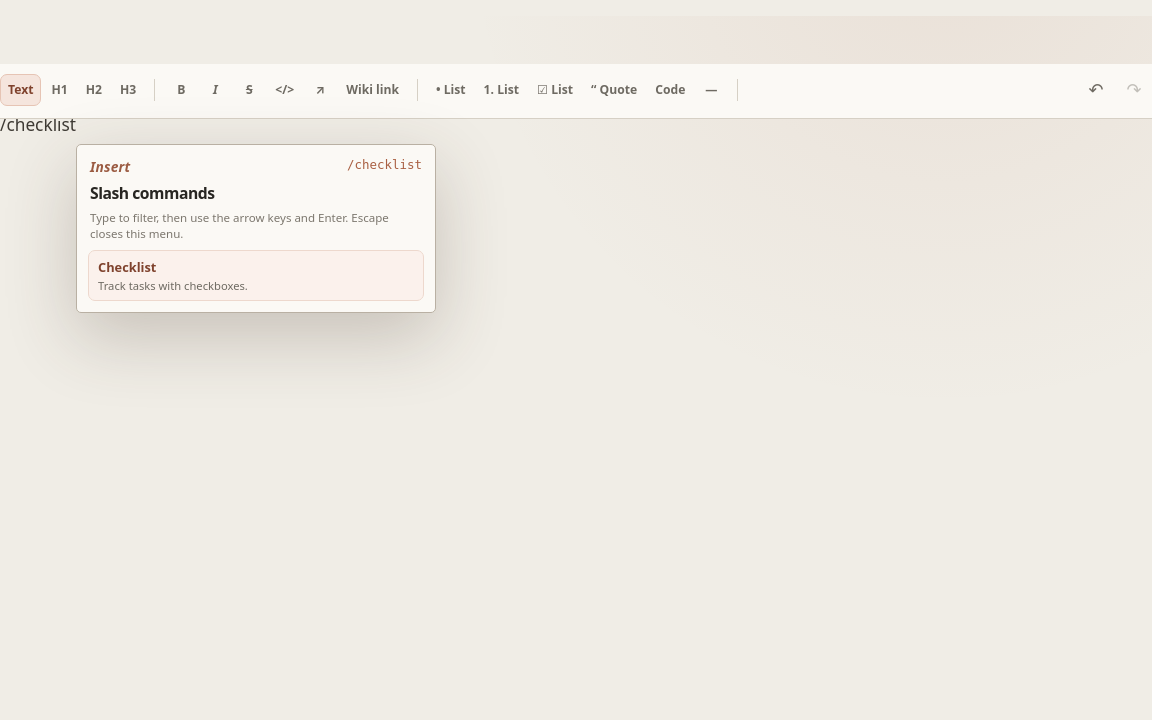
Test: PageEditor › inserts one focused checklist item from the slash menu without an extra paragraph
Expected: the dialog "Slash commands" is shown, [76,144,436,313]
Click the option "Checklist Track tasks with checkboxes.": (127, 267) [88,250,424,301]
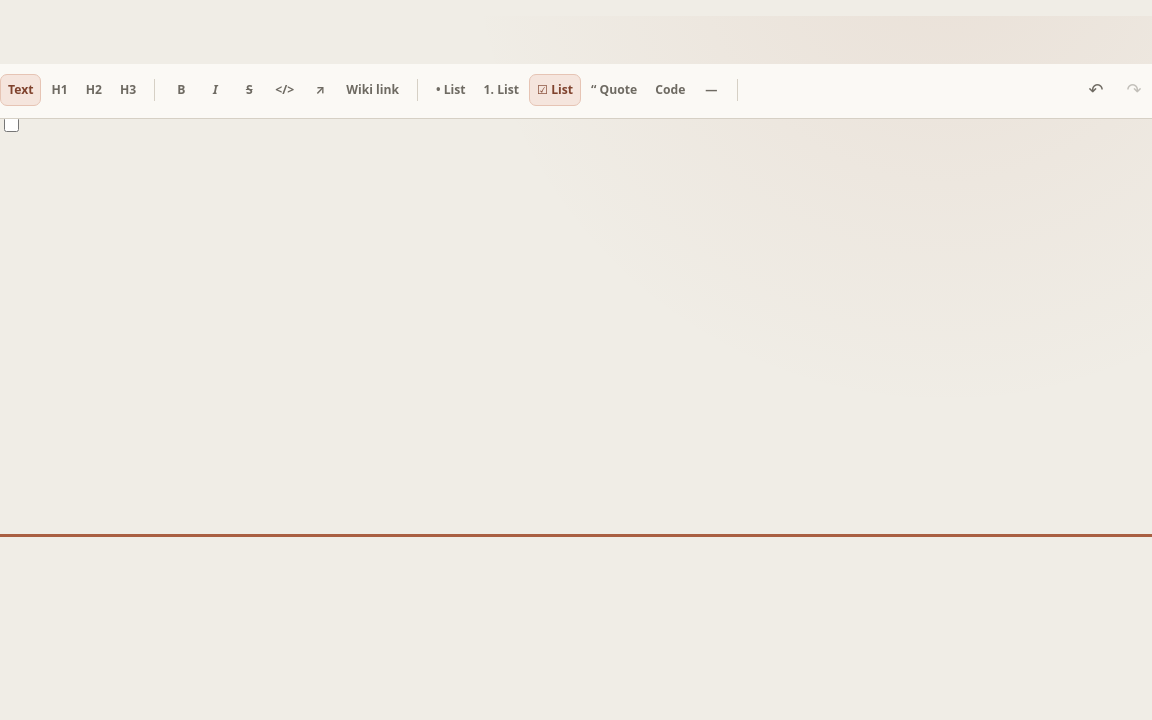
Result: the number of list items is 1 at [0,117,319,151]
